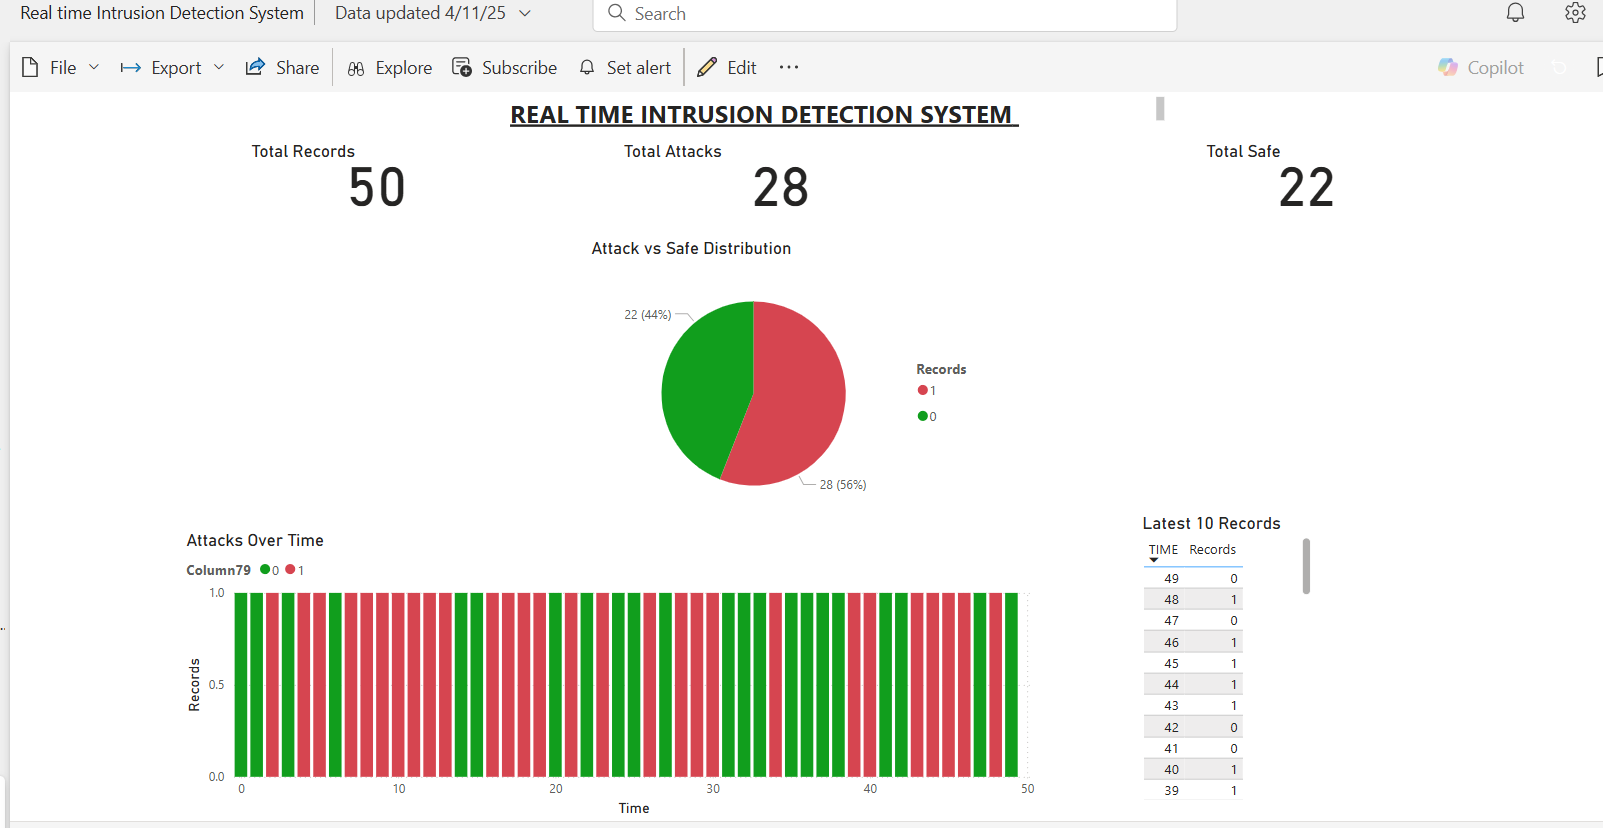

The dashboard page shown, as its layout file describes it:
{"tool":"powerbi","page":{"name":"Page 1","canvas":[1280,720],"ordinal":0},"visuals":[{"type":"textbox","box":[16,0,1264,48],"z":0},{"type":"textbox","box":[336,0,656,48],"z":1},{"type":"card","title":"Total Records","fields":{"Values":["CountNonNull(realtime_logs.Column79)"]},"box":[80,48,256,80],"z":2},{"type":"card","title":"Total Safe","fields":{"Values":["CountNonNull(realtime_logs.Column79)"]},"box":[1024,48,208,80],"z":3},{"type":"card","title":"Total Attacks","fields":{"Values":["CountNonNull(realtime_logs.Column79)"]},"box":[448,48,320,80],"z":4},{"type":"pieChart","title":" Attack vs Safe Distribution","fields":{"Category":["realtime_logs.Column79"],"Y":["CountNonNull(realtime_logs.Column79)"]},"box":[416,144,400,288],"z":5},{"type":"columnChart","title":"Attacks Over Time","fields":{"Category":["realtime_logs.Index"],"Y":["CountNonNull(realtime_logs.Column79)"],"Series":["realtime_logs.Column79"]},"box":[16,432,848,288],"z":6},{"type":"tableEx","title":"Latest 10 Records","fields":{"Values":["realtime_logs.Index","realtime_logs.Column79"]},"box":[960,416,176,288],"z":7}]}

Visuals, with their boxes on the page's 1280x720 design canvas (x1, y1, x2, y2). These are canvas units, not pixel positions in the 1603x828 screenshot, which may show the page scaled, cropped or inside an application window:
textbox: x1=16, y1=0, x2=1280, y2=48
textbox: x1=336, y1=0, x2=992, y2=48
"Total Records" card: x1=80, y1=48, x2=336, y2=128
"Total Safe" card: x1=1024, y1=48, x2=1232, y2=128
"Total Attacks" card: x1=448, y1=48, x2=768, y2=128
" Attack vs Safe Distribution" pieChart: x1=416, y1=144, x2=816, y2=432
"Attacks Over Time" columnChart: x1=16, y1=432, x2=864, y2=720
"Latest 10 Records" tableEx: x1=960, y1=416, x2=1136, y2=704
